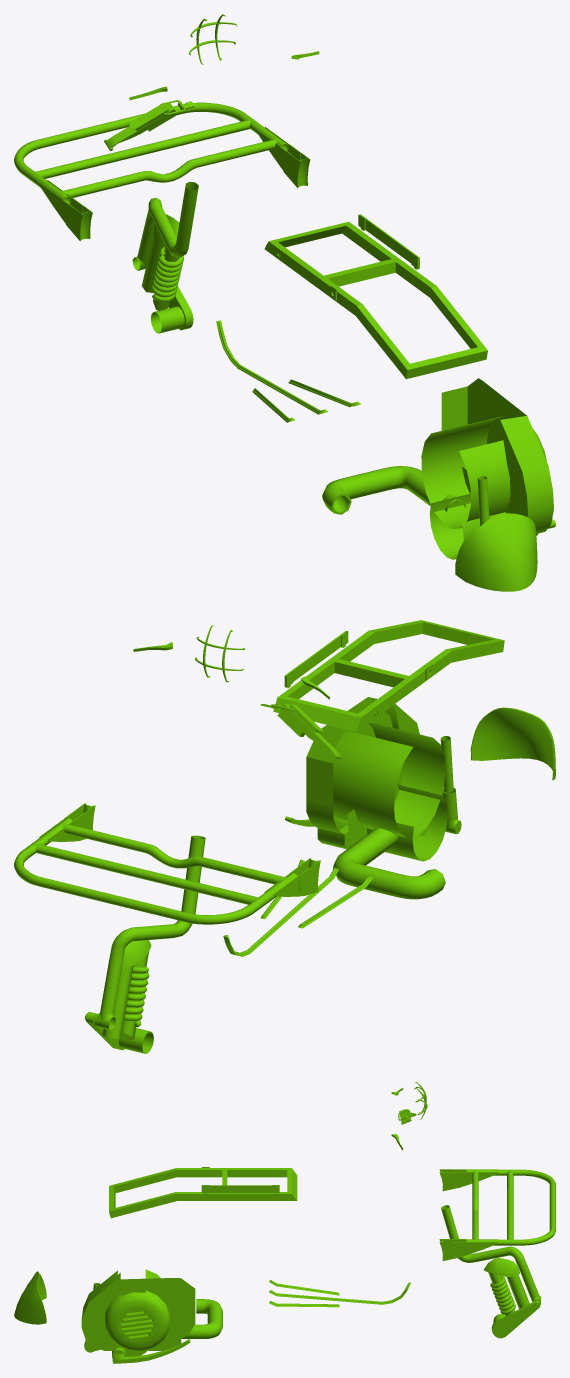
Rendered from AM2_Vesper3_2b.fbx.
3 renders of one model, top to bottom at view 1: azimuth 30°, elevation 25°; view 2: azimuth 150°, elevation 25°; view 3: azimuth 270°, elevation 25°, orthographic. The views are drawn at different scales.
Visible parts, largest first — view 1: seatFrame3_lp; view 2: seatFrame3_lp; view 3: seatFrame3_lp.
Boxes of the visible parts, bbox=[...] form: seatFrame3_lp: bbox=[14, 14, 555, 591]; seatFrame3_lp: bbox=[14, 620, 555, 1053]; seatFrame3_lp: bbox=[14, 1082, 555, 1363].
Bounding box in the file's own units: 47.5 × 77.17 × 149.
